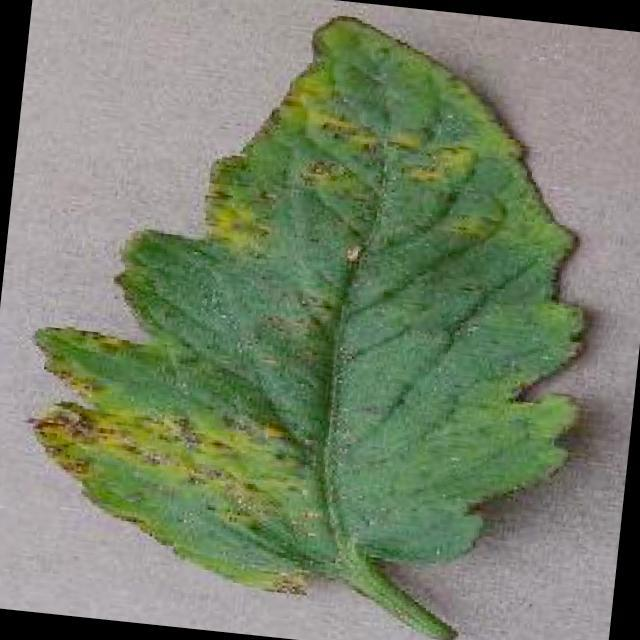Tomato bacterial spot leaf: (9, 0, 622, 625)
